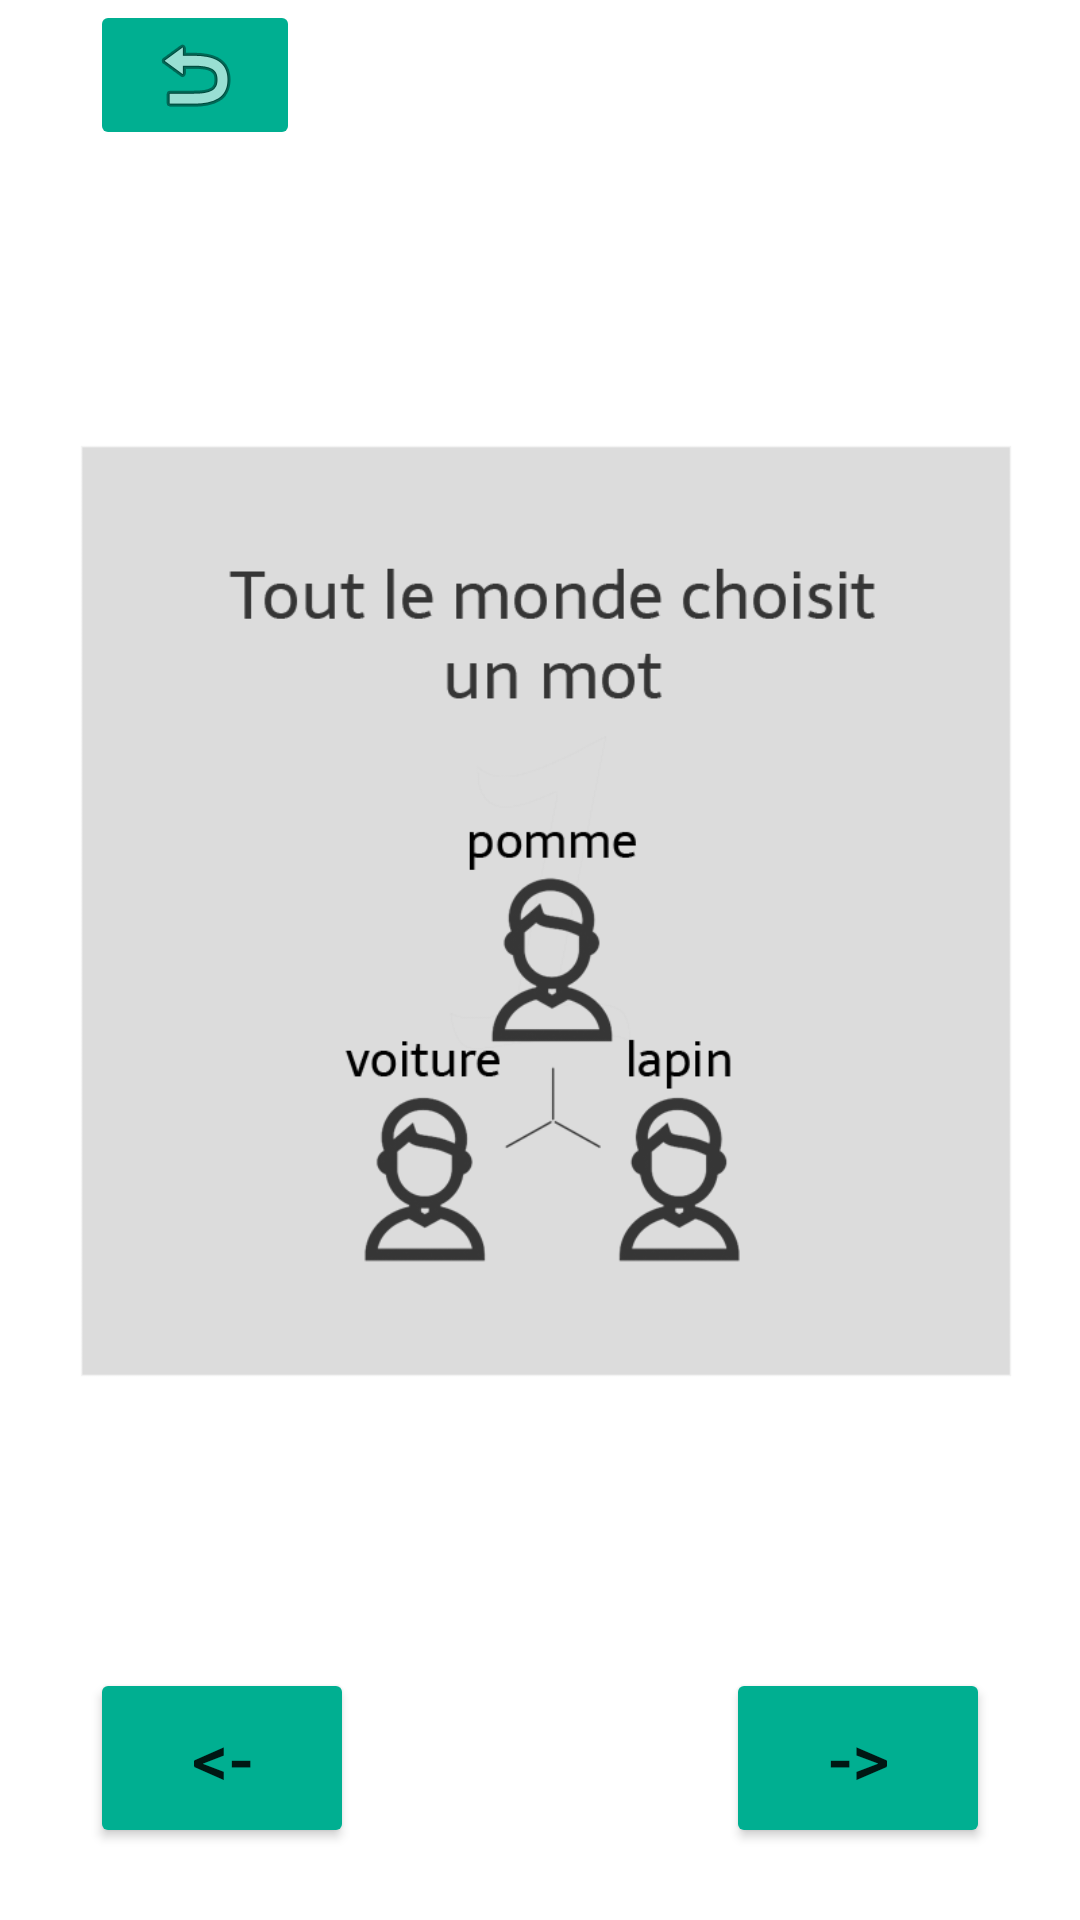

Screen size 1080 x 1920. Icon name, then its center in pixels as (x=x, y=y):
Back: (x=195, y=75)
